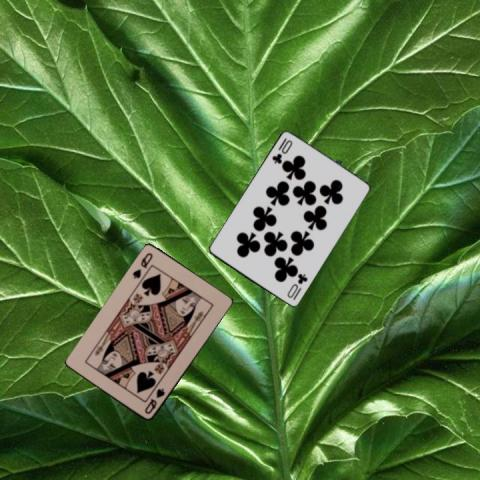10c: (284, 271, 309, 302), (269, 136, 294, 166)
Qs: (142, 385, 167, 416), (129, 250, 154, 280)
